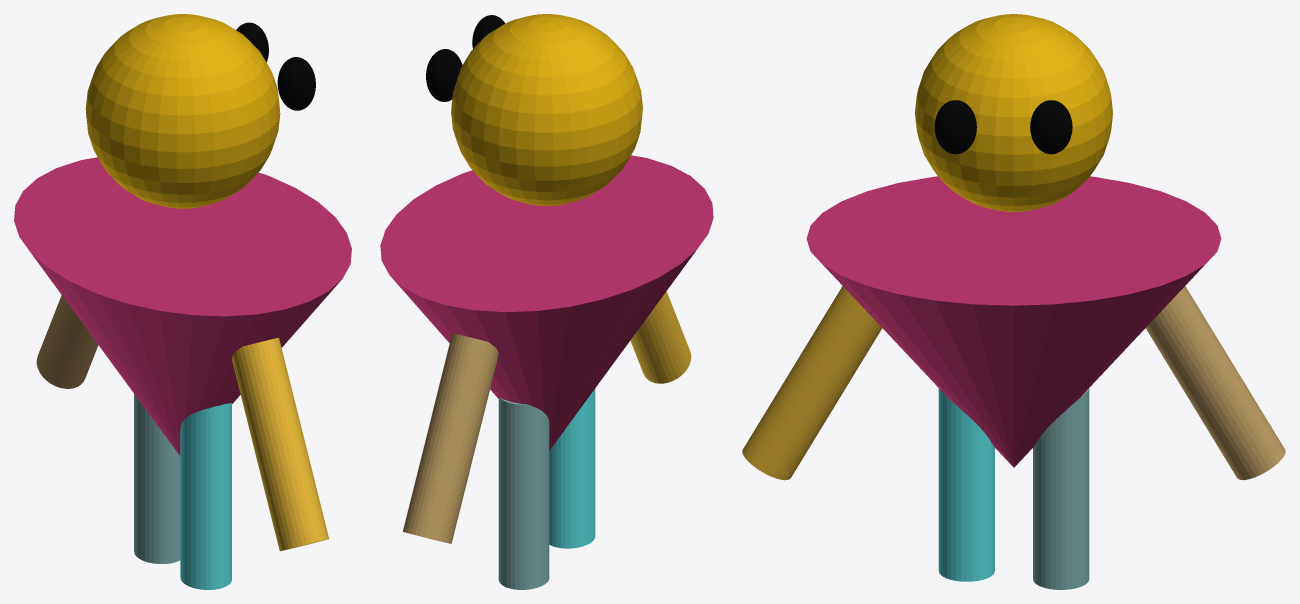
File: NPC2.fbx
The picture shows the model from 3 angles, left to right: view 1: azimuth 30°, elevation 25°; view 2: azimuth 150°, elevation 25°; view 3: azimuth 270°, elevation 25°; orthographic projection. The views are drawn at different scales.
Visible parts, largest first — view 1: Esfera.001; view 2: Esfera.001; view 3: Esfera.001.
Boxes of the visible parts, left/top/right/bottom form: Esfera.001: left=14, top=14, right=351, bottom=589; Esfera.001: left=380, top=14, right=713, bottom=589; Esfera.001: left=742, top=14, right=1285, bottom=589.
Size of the model in its own units: 320 by 619 by 548.
